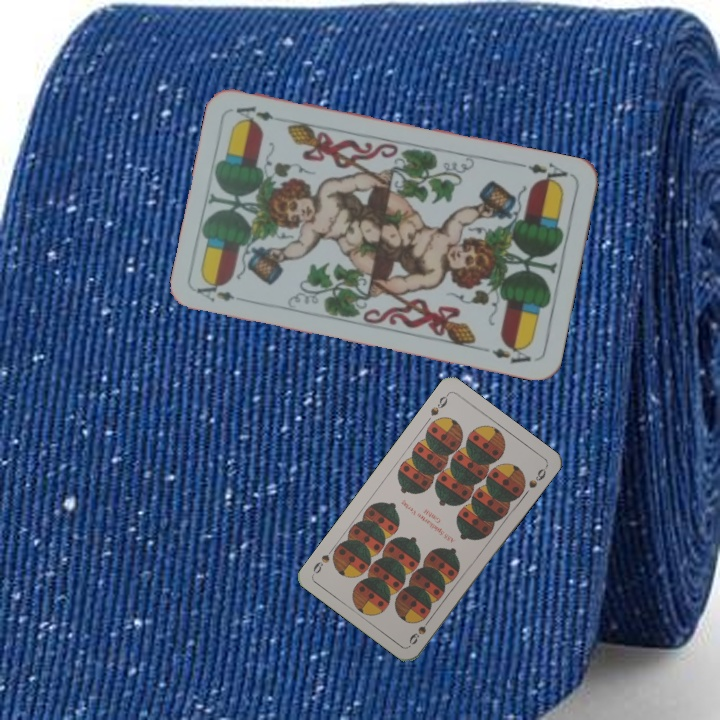EA: (524, 158, 570, 188), (193, 277, 237, 305)
S9: (405, 613, 435, 647), (426, 390, 451, 418)
